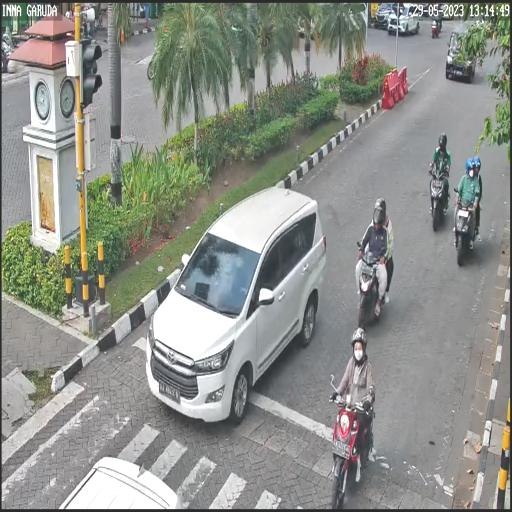mobil: (147, 189, 326, 426), (446, 28, 474, 86)
motor: (326, 371, 374, 505), (353, 237, 394, 335), (453, 187, 479, 263), (428, 157, 449, 233)
